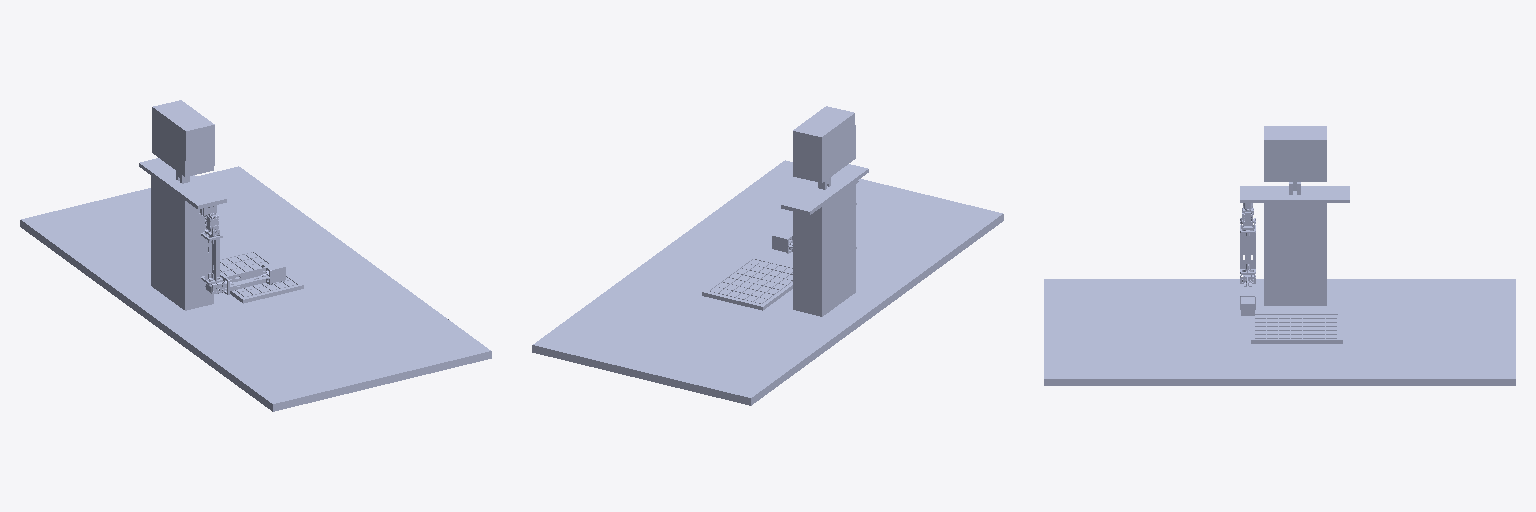
URDF robot description (bexter_dummy_urdf):
<?xml version="1.0" encoding="utf-8"?>
<!-- This URDF was automatically created by SolidWorks to URDF Exporter! Originally created by [author] ([email redacted]) 
     Commit Version: 1.6.0-4-g7f85cfe  Build Version: 1.6.7995.38578
     For more information, please see http://wiki.ros.org/sw_urdf_exporter -->
<robot
  name="bexter_dummy_urdf">
  <link
    name="base_link">
    <inertial>
      <origin
        xyz="0.58329 0.65212 1.0658"
        rpy="0 0 0" />
      <mass
        value="41.61" />
      <inertia
        ixx="5.8669"
        ixy="-4.7843E-05"
        ixz="-2.3842E-08"
        iyy="7.1963"
        iyz="1.877E-07"
        izz="1.5502" />
    </inertial>
    <visual>
      <origin
        xyz="0 0 0"
        rpy="0 0 0" />
      <geometry>
        <mesh
          filename="package://bexter_dummy_urdf/meshes/base_link.STL" />
      </geometry>
      <material
        name="">
        <color
          rgba="0.79216 0.81961 0.93333 1" />
      </material>
    </visual>
    <collision>
      <origin
        xyz="0 0 0"
        rpy="0 0 0" />
      <geometry>
        <mesh
          filename="package://bexter_dummy_urdf/meshes/base_link.STL" />
      </geometry>
    </collision>
  </link>
  <link
    name="link_1">
    <inertial>
      <origin
        xyz="-3.8722E-05 0.026725 -0.0011003"
        rpy="0 0 0" />
      <mass
        value="0.10747" />
      <inertia
        ixx="3.0053E-05"
        ixy="-1.8688E-08"
        ixz="-1.4411E-07"
        iyy="1.7362E-05"
        iyz="7.7363E-08"
        izz="2.8037E-05" />
    </inertial>
    <visual>
      <origin
        xyz="0 0 0"
        rpy="0 0 0" />
      <geometry>
        <mesh
          filename="package://bexter_dummy_urdf/meshes/link_1.STL" />
      </geometry>
      <material
        name="">
        <color
          rgba="0.79216 0.81961 0.93333 1" />
      </material>
    </visual>
    <collision>
      <origin
        xyz="0 0 0"
        rpy="0 0 0" />
      <geometry>
        <mesh
          filename="package://bexter_dummy_urdf/meshes/link_1.STL" />
      </geometry>
    </collision>
  </link>
  <joint
    name="joint0"
    type="revolute">
    <origin
      xyz="0.43204 -1.1835 0.85662"
      rpy="1.5708 0 3.0727" />
    <parent
      link="base_link" />
    <child
      link="link_1" />
    <axis
      xyz="0 1 0" />
    <limit
      lower="-2.61"
      upper="2.61"
      effort="1.5"
      velocity="1.9" />
  </joint>
  <link
    name="link_2">
    <inertial>
      <origin
        xyz="0.0064234 -0.098979 -0.00044329"
        rpy="0 0 0" />
      <mass
        value="0.092465" />
      <inertia
        ixx="9.2514E-05"
        ixy="4.2585E-06"
        ixz="-2.5701E-07"
        iyy="2.7193E-05"
        iyz="-2.9389E-07"
        izz="8.8807E-05" />
    </inertial>
    <visual>
      <origin
        xyz="0 0 0"
        rpy="0 0 0" />
      <geometry>
        <mesh
          filename="package://bexter_dummy_urdf/meshes/link_2.STL" />
      </geometry>
      <material
        name="">
        <color
          rgba="0.79216 0.81961 0.93333 1" />
      </material>
    </visual>
    <collision>
      <origin
        xyz="0 0 0"
        rpy="0 0 0" />
      <geometry>
        <mesh
          filename="package://bexter_dummy_urdf/meshes/link_2.STL" />
      </geometry>
    </collision>
  </link>
  <joint
    name="joint1"
    type="revolute">
    <origin
      xyz="0 0.01 0"
      rpy="3.1371 0.00014488 -3.0768" />
    <parent
      link="link_1" />
    <child
      link="link_2" />
    <axis
      xyz="0.068848 0 0.99763" />
    <limit
      lower="-2.61"
      upper="2.61"
      effort="1.5"
      velocity="1.9" />
  </joint>
  <link
    name="end_effector">
    <inertial>
      <origin
        xyz="0.11395 -0.0026249 -0.0082787"
        rpy="0 0 0" />
      <mass
        value="0.28572" />
      <inertia
        ixx="7.2014E-05"
        ixy="1.9139E-06"
        ixz="5.6288E-06"
        iyy="0.00015447"
        iyz="-1.2954E-07"
        izz="0.00015208" />
    </inertial>
    <visual>
      <origin
        xyz="0 0 0"
        rpy="0 0 0" />
      <geometry>
        <mesh
          filename="package://bexter_dummy_urdf/meshes/end_effector.STL" />
      </geometry>
      <material
        name="">
        <color
          rgba="0.79216 0.81961 0.93333 1" />
      </material>
    </visual>
    <collision>
      <origin
        xyz="0 0 0"
        rpy="0 0 0" />
      <geometry>
        <mesh
          filename="package://bexter_dummy_urdf/meshes/end_effector.STL" />
      </geometry>
    </collision>
  </link>
  <joint
    name="end_effector"
    type="revolute">
    <origin
      xyz="0.013043 -0.20096 -0.0009001"
      rpy="0.006038 -0.00026465 0.087604" />
    <parent
      link="link_2" />
    <child
      link="end_effector" />
    <axis
      xyz="0.068848 0 0.99763" />
    <limit
      lower="-2.61"
      upper="2.61"
      effort="1.5"
      velocity="1.9" />
  </joint>
</robot>

--- Facts derived from the render (not from the file) ---
The picture shows the robot from 3 angles, left to right: view 1: azimuth 30°, elevation 25°; view 2: azimuth 150°, elevation 25°; view 3: azimuth 270°, elevation 25°; orthographic projection.
Model bexter_dummy_urdf with 4 links and 3 joints (3 revolute), rooted at base_link, posed every joint at zero.
Visible links, largest first — view 1: base_link, end_effector, link_2; view 2: base_link; view 3: base_link, link_2, end_effector.
Boxes of the visible links, x1,y1,x2,y2 form: base_link: (20,100,491,411); end_effector: (206,261,285,294); link_2: (201,225,222,293); base_link: (532,106,1003,405); base_link: (1044,126,1515,385); link_2: (1240,218,1255,276); end_effector: (1240,275,1255,315).
Bounding box of the posed robot: 0.762 × 1.52 × 0.623 m (x, y, z).
4 mesh visuals loaded from 4 distinct referenced files (4 binary STL).
